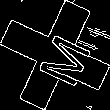M_NW: (22, 24, 88, 86)
